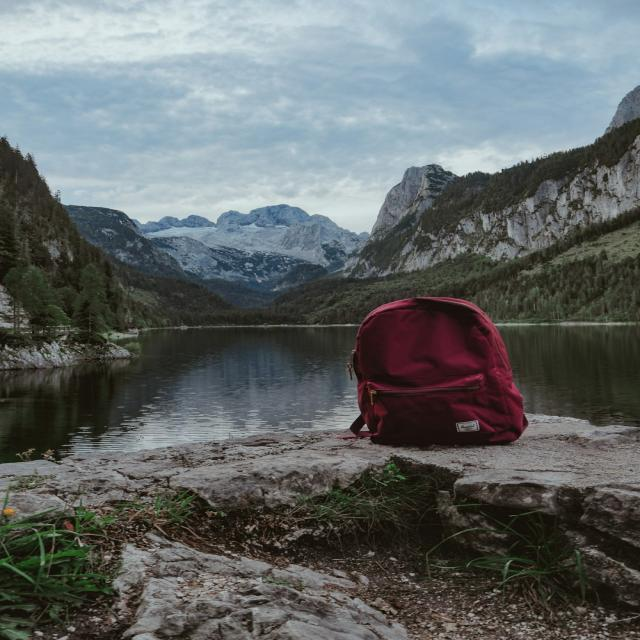backpack: (345, 297, 530, 447)
